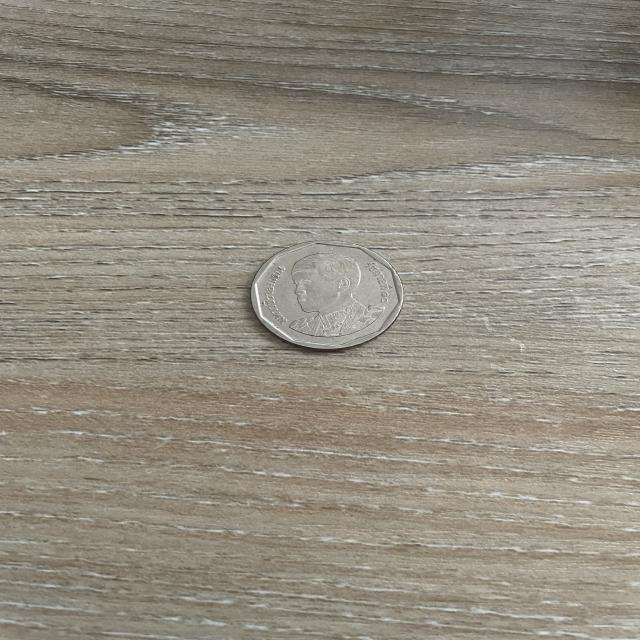5 Bath: (245, 233, 412, 359)
